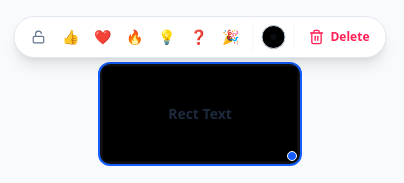
ShapeComponent › allows editing text on double click
This screenshot has width=404, height=183.
Double-click the text "Rect Text" at (200, 114), box left=168, top=104, right=232, bottom=123
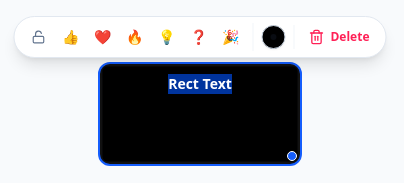
Expected: the text box showing "Rect Text" is shown, left=110, top=74, right=290, bottom=154
